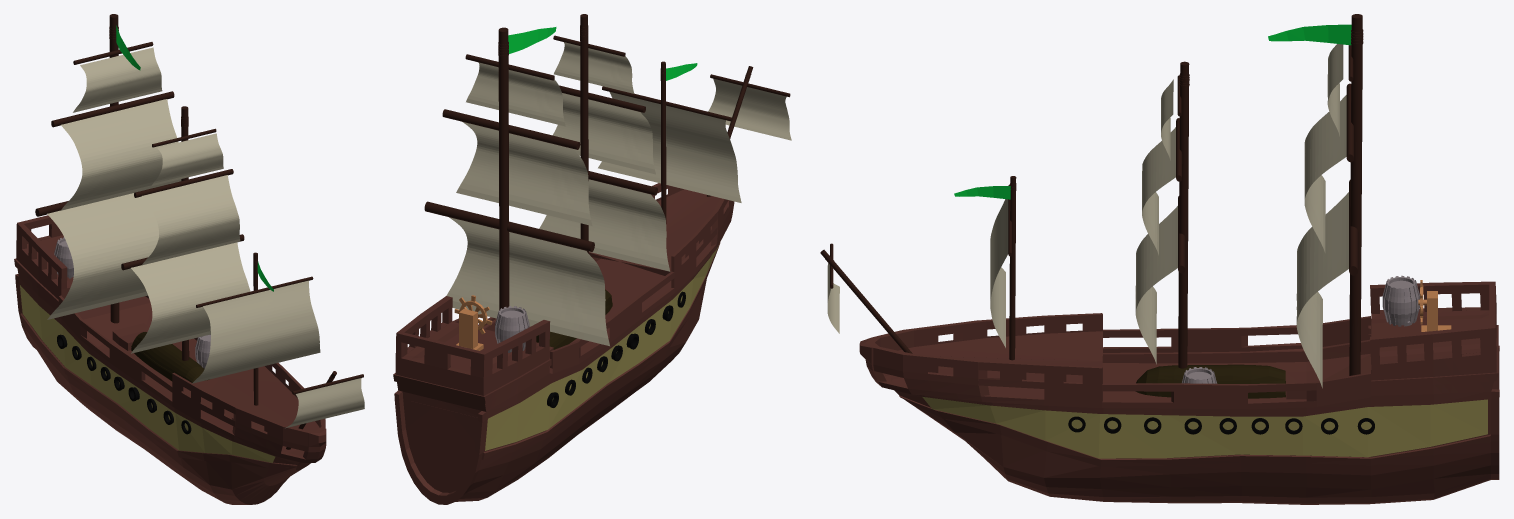
Rendered from Frigate.dae.
3 renders of one model, left to right at view 1: azimuth 30°, elevation 25°; view 2: azimuth 150°, elevation 25°; view 3: azimuth 270°, elevation 25°, orthographic. The views are drawn at different scales.
Parts seen in each view (by area): view 1: Sphere, sail_big_004, sail_big, sail_big_001, sail_big_005, body_color, sail_big_007, sail_big_002, sail_big_006, sail_big_003, Sphere_001, Cylinder_024 (+7 smaller); view 2: Sphere, sail_big_004, sail_big_001, sail_big, body_color, sail_big_005, sail_big_007, sail_big_002, sail_big_003, Circle_020, sail_big_006, Cylinder_030 (+12 smaller); view 3: Sphere, body_color, sail_big_004, Circle_020, sail_big_001, sail_big_005, Circle_022, Sphere_001, sail_big_007, sail_big, Cylinder_028, flag (+3 smaller).
Boxes of the visible parts, x1,y1,x2,y2 form: Sphere: (14,215,326,504); sail_big_004: (47,193,158,319); sail_big: (192,280,320,383); sail_big_001: (61,99,181,210); sail_big_005: (131,242,250,353); body_color: (20,285,275,462); sail_big_007: (142,175,240,265); sail_big_002: (73,47,162,112); sail_big_006: (151,133,223,186); sail_big_003: (285,378,364,428); Sphere_001: (131,332,209,382); Cylinder_024: (51,91,174,127); Sphere: (393,183,734,504); sail_big_004: (446,217,609,346); sail_big_001: (456,121,592,225); sail_big: (598,91,741,202); body_color: (485,243,719,450); sail_big_005: (539,179,670,271); sail_big_007: (552,93,655,174); sail_big_002: (466,62,565,126); sail_big_003: (708,78,791,140); Circle_020: (498,27,509,310); sail_big_006: (554,42,634,93); Cylinder_030: (424,201,594,251); Sphere: (859,281,1499,504); body_color: (922,397,1487,458); sail_big_004: (1296,192,1348,388); Circle_020: (1349,14,1363,375); sail_big_001: (1304,95,1346,252); sail_big_005: (1135,206,1177,364); Circle_022: (1178,61,1189,368); Sphere_001: (1135,364,1285,398); sail_big_007: (1142,127,1175,255); sail_big: (990,199,1008,347); Cylinder_028: (1382,275,1419,326); flag: (1268,24,1351,45).
Bounding box in the file's own units: 1.13 × 3.62 × 2.86.
